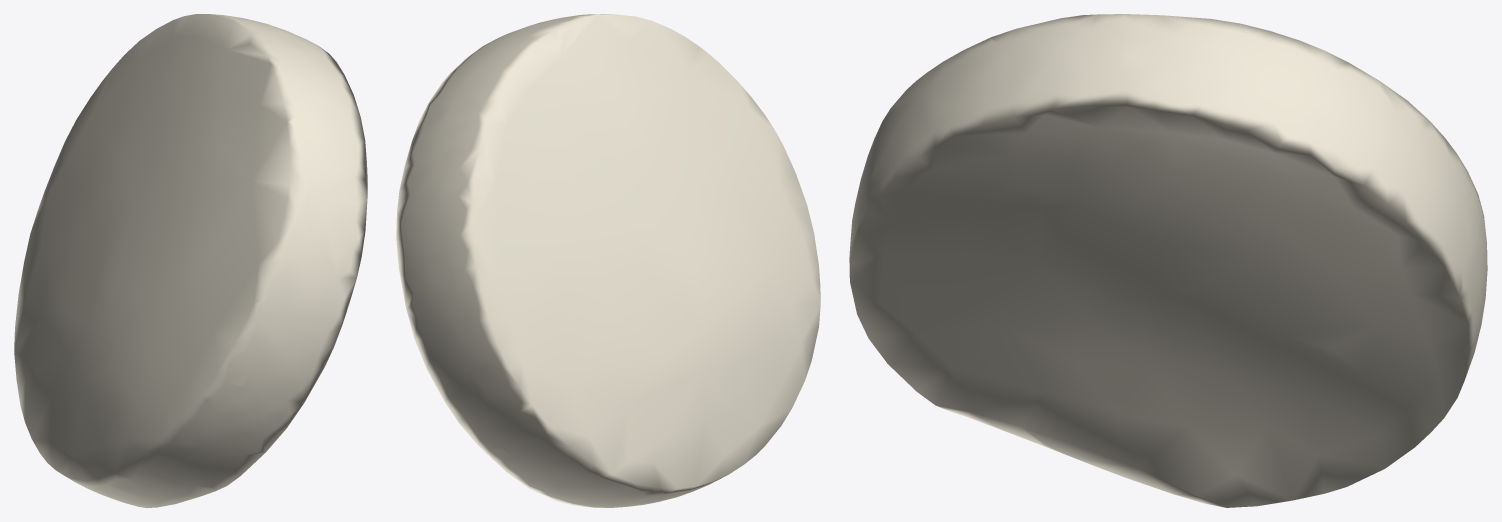
File: fma57081_mm964.glb
The picture shows the model from 3 angles, left to right: view 1: azimuth 30°, elevation 25°; view 2: azimuth 150°, elevation 25°; view 3: azimuth 270°, elevation 25°; orthographic projection. The views are drawn at different scales.
Visible parts, largest first — view 1: FMA57081_MM964; view 2: FMA57081_MM964; view 3: FMA57081_MM964.
Part boxes in pixels (<box>): FMA57081_MM964: <box>14,14,367,507</box>; FMA57081_MM964: <box>396,14,820,507</box>; FMA57081_MM964: <box>849,14,1487,507</box>.
Bounding box in the file's own units: 0.0149 × 0.0223 × 0.0232.
